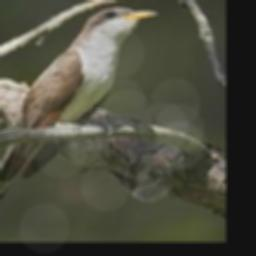Cuckoo: (0, 7, 159, 238)
